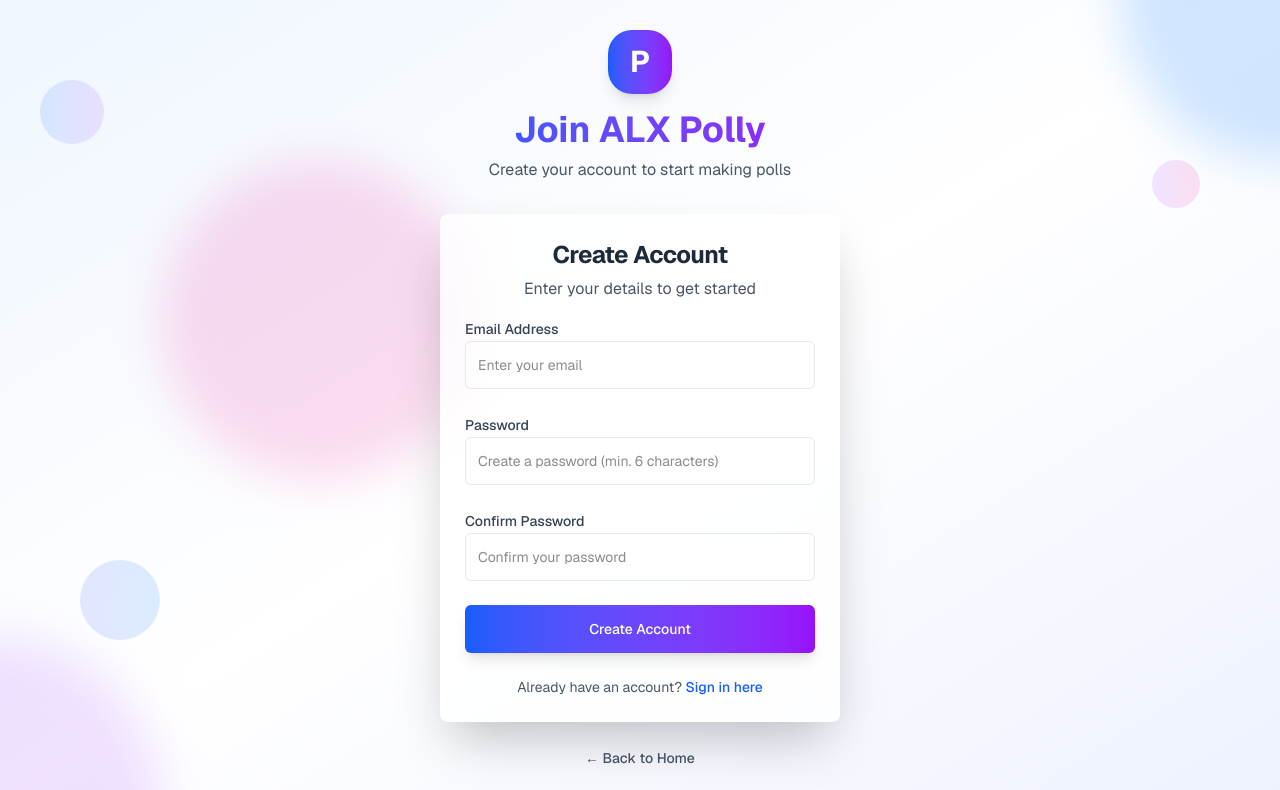
RegisterPage Component › validates password confirmation
Type "test@example.com" into the field labelled "Email Address" at (640, 365), box [465, 341, 815, 389]
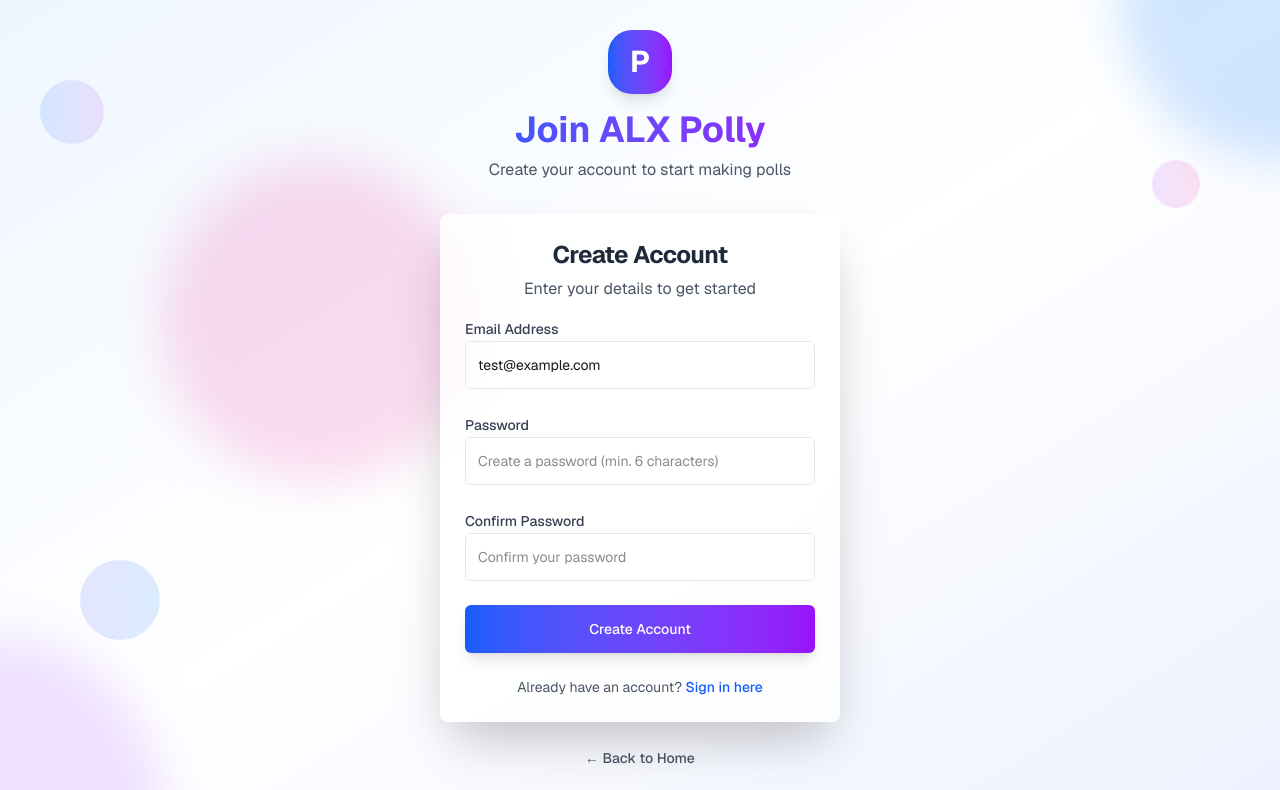
Type "password123" into the password field labelled "Password" at (640, 461), box [465, 437, 815, 485]
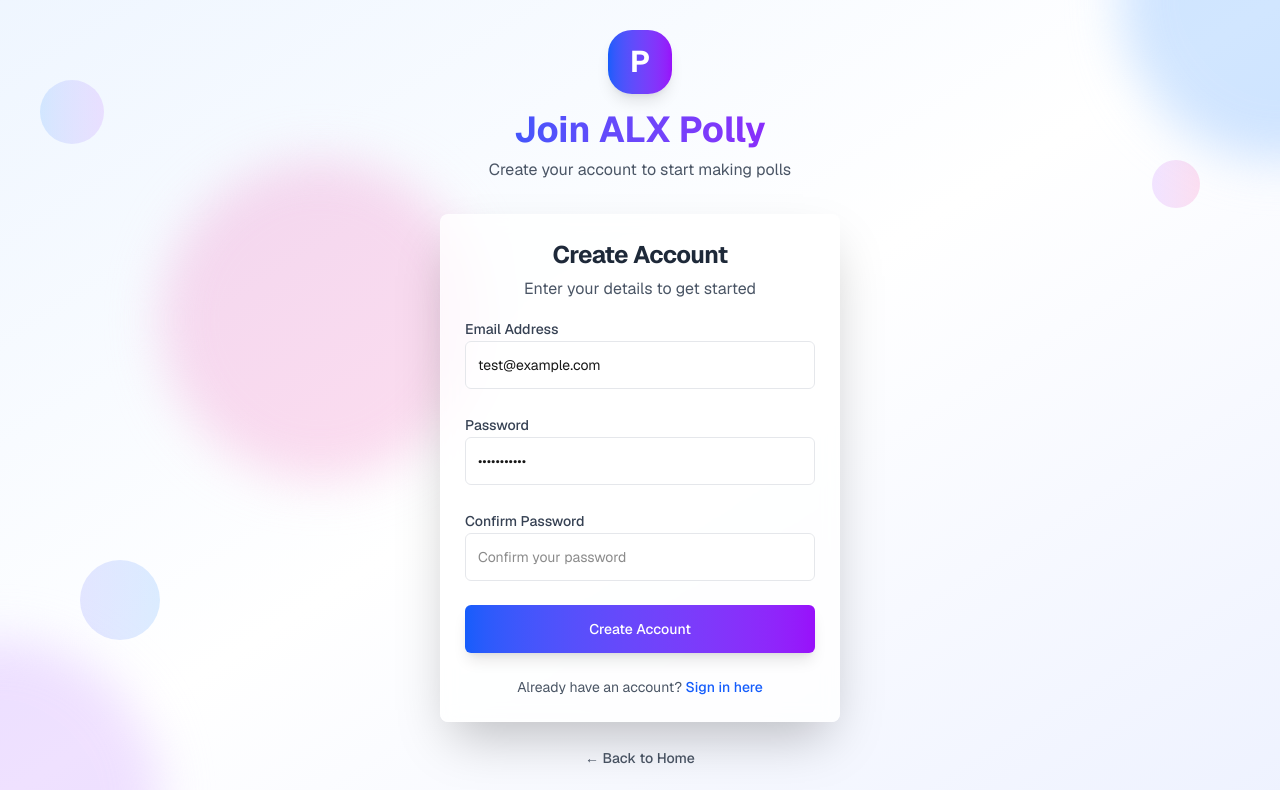
Type "password456" into the password field labelled "Confirm Password" at (640, 557), box [465, 533, 815, 581]
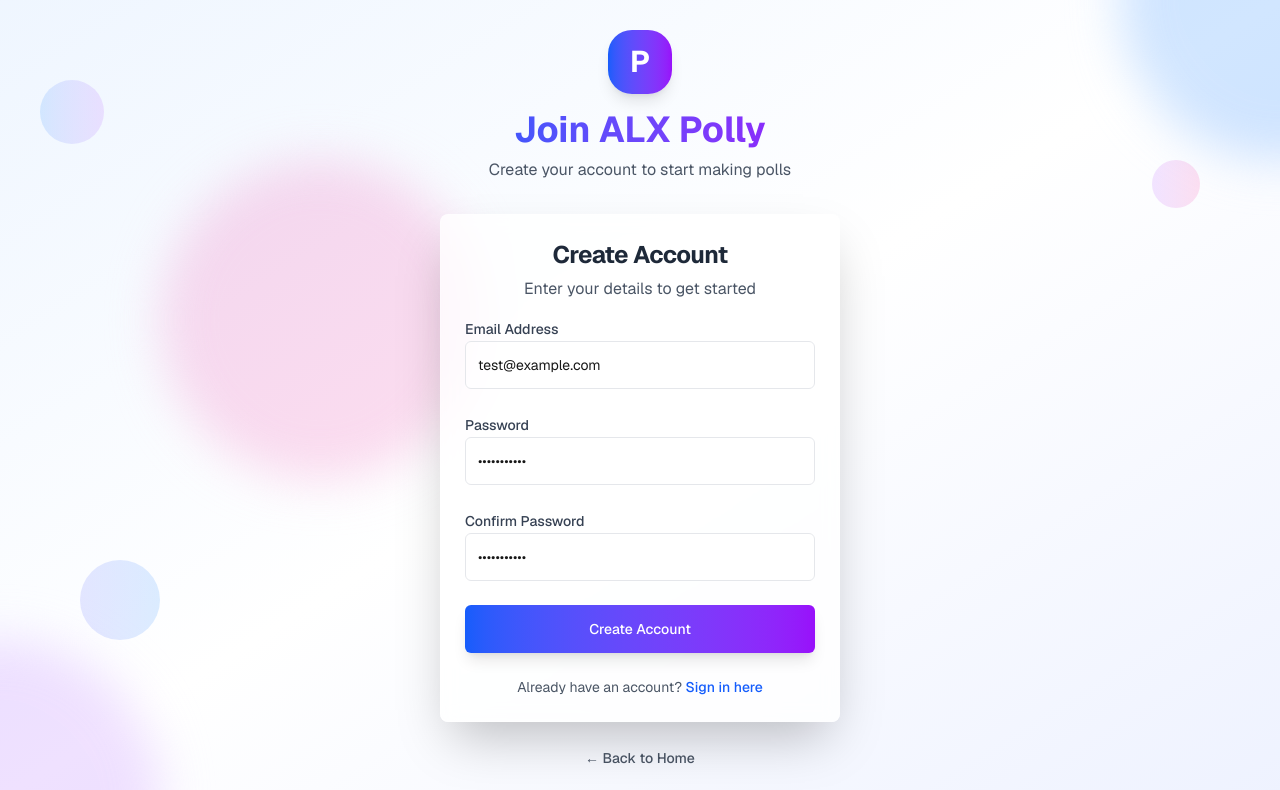
Click the button "Create Account" at (640, 629), box [465, 605, 815, 653]
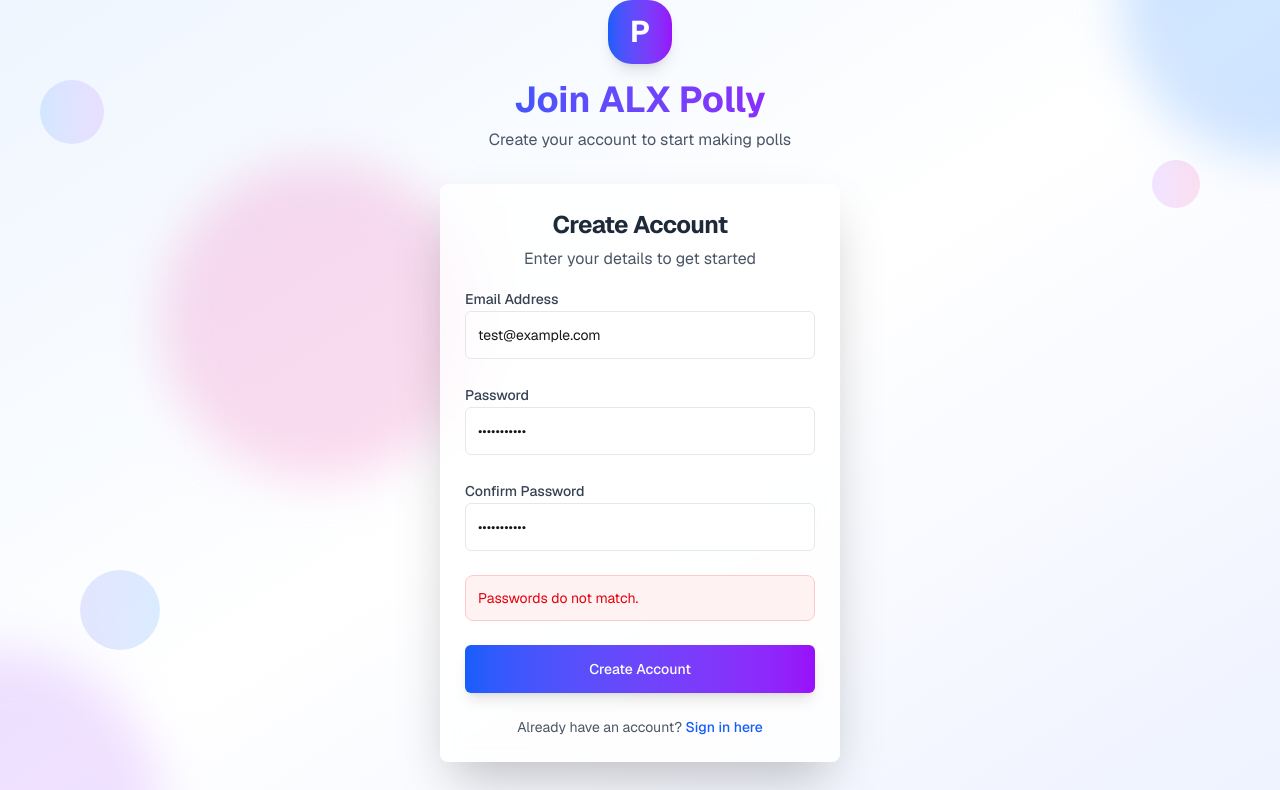
Now the text "Passwords do not match." is shown, box [478, 589, 638, 607]
